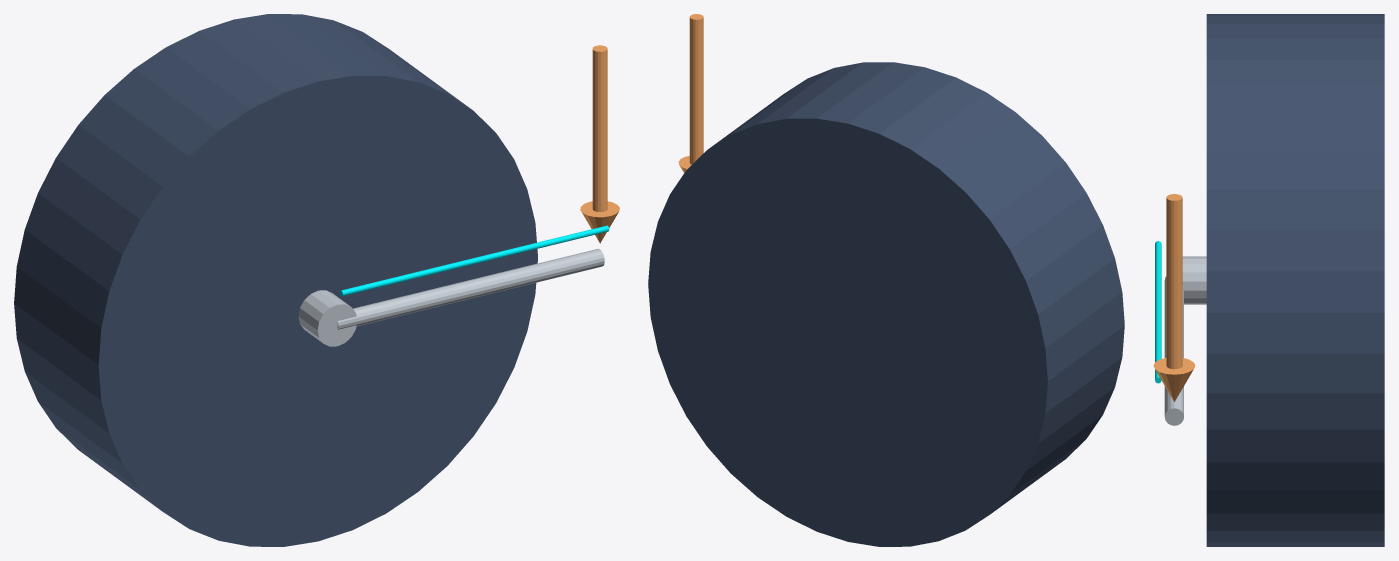
File: ar-bab02-lengan-momen.glb
3 views of the same model, side by side, from view 1: azimuth 30°, elevation 25°; view 2: azimuth 150°, elevation 25°; view 3: azimuth 270°, elevation 25° (orthographic). The views are drawn at different scales.
Visible parts, largest first — view 1: geometry_0, geometry_2, geometry_3, geometry_1, geometry_5, geometry_4; view 2: geometry_0, geometry_3; view 3: geometry_0, geometry_3, geometry_1, geometry_2, geometry_4, geometry_5.
Boxes of the visible parts, <box> form: geometry_0: <box>14,14,537,546</box>; geometry_2: <box>337,248,604,329</box>; geometry_3: <box>592,45,607,211</box>; geometry_1: <box>298,290,356,346</box>; geometry_5: <box>340,225,609,296</box>; geometry_4: <box>580,201,619,243</box>; geometry_0: <box>648,62,1124,546</box>; geometry_3: <box>689,14,703,164</box>; geometry_0: <box>1206,14,1384,546</box>; geometry_3: <box>1166,194,1182,369</box>; geometry_1: <box>1182,256,1206,304</box>; geometry_2: <box>1164,276,1183,425</box>; geometry_4: <box>1153,358,1195,401</box>; geometry_5: <box>1155,241,1161,383</box>.
Size of the model in its own units: 0.756 by 0.66 by 0.286.
